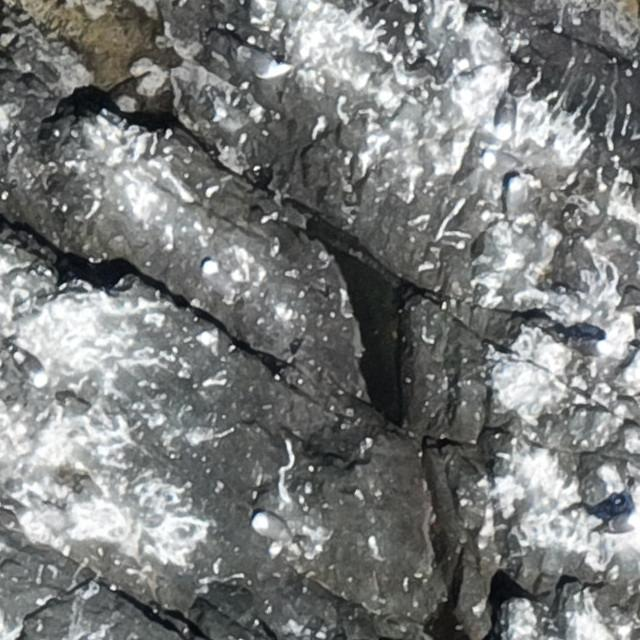umineko: (232, 43, 292, 78), (591, 505, 640, 538), (499, 173, 530, 224), (464, 154, 491, 193), (496, 94, 517, 141), (572, 338, 615, 358), (17, 354, 46, 383), (253, 514, 286, 538), (202, 260, 220, 292)
